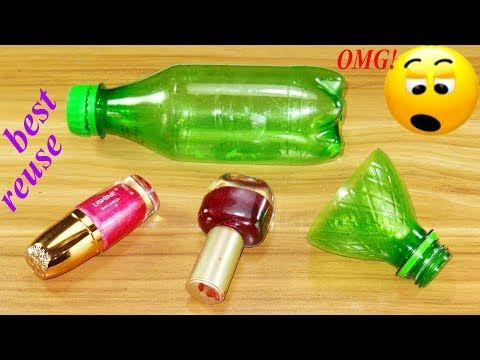plastic_bottle: (44, 58, 406, 192)
